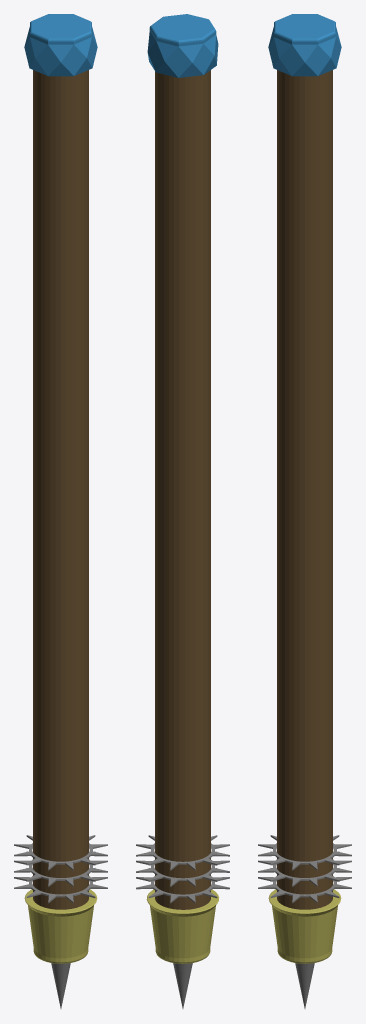
File: spiked_cane.glb
The picture shows the model from 3 angles, left to right: view 1: azimuth 90°, elevation 25°; view 2: azimuth 150°, elevation 25°; view 3: azimuth 270°, elevation 25°; orthographic projection.
Visible parts, largest first — view 1: Stick, Gem Top Cap, Bottom Cap, Gear.001, Gear.002, Gear.003, Spike; view 2: Stick, Gem Top Cap, Bottom Cap, Gear.001, Gear.002, Gear.003, Spike; view 3: Stick, Gem Top Cap, Bottom Cap, Gear.001, Gear.002, Gear.003, Spike.
Boxes of the visible parts, box(x1,y1,x2,y2) form: Stick: box(33, 70, 88, 909); Gem Top Cap: box(24, 14, 97, 76); Bottom Cap: box(24, 889, 97, 963); Gear.001: box(14, 835, 107, 870); Gear.002: box(14, 851, 107, 886); Gear.003: box(14, 868, 107, 903); Spike: box(51, 963, 70, 1008); Stick: box(155, 70, 210, 909); Gem Top Cap: box(147, 14, 218, 77); Bottom Cap: box(146, 889, 219, 963); Gear.001: box(136, 835, 229, 870); Gear.002: box(136, 851, 229, 886); Gear.003: box(136, 868, 229, 903); Spike: box(173, 963, 192, 1008); Stick: box(277, 70, 332, 909); Gem Top Cap: box(268, 14, 341, 76); Bottom Cap: box(268, 889, 341, 963); Gear.001: box(258, 835, 351, 870); Gear.002: box(258, 851, 351, 886); Gear.003: box(258, 868, 351, 903); Spike: box(295, 963, 314, 1008).
Bounding box in the file's own units: 0.052 × 0.6009 × 0.052.
